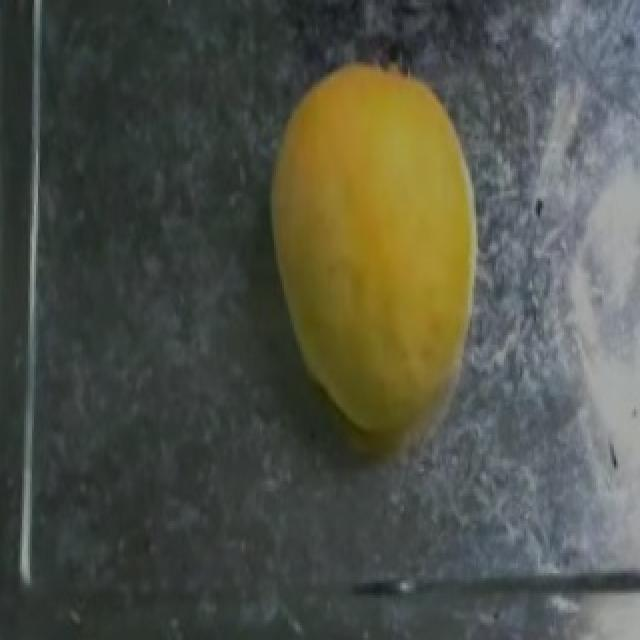fruit: (248, 37, 548, 437)
